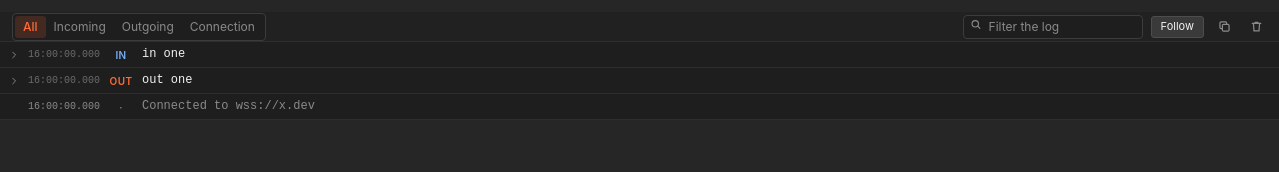
filtering › narrows to the connection's own story
The image size is (1279, 172).
Click the button "Connection".
click(222, 26)  # box x1=182 y1=16 x2=263 y2=38
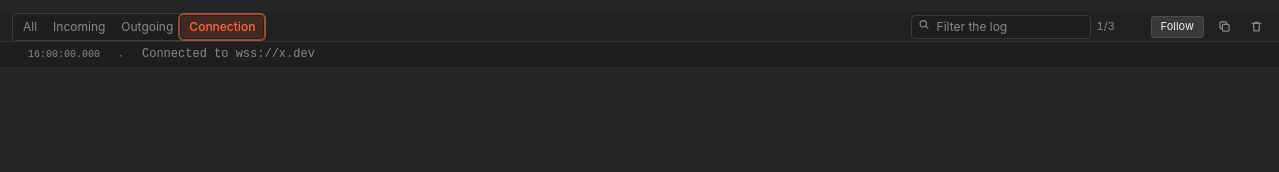
Expected: the text "Connected to wss://x.dev" is shown, x1=142 y1=47 x2=315 y2=61
Result: the button "in one" is gone
